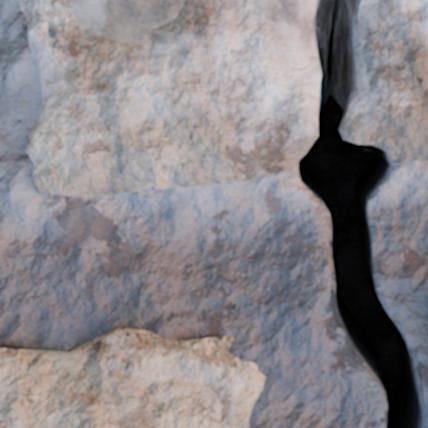brick: (0, 326, 264, 427)
broken_brick: (18, 0, 318, 198), (343, 0, 427, 161)
crack: (294, 0, 425, 427)
